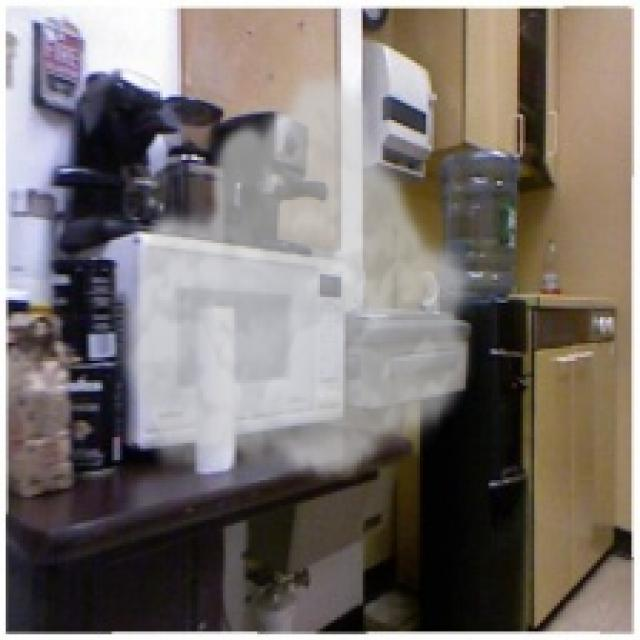smoke: (120, 63, 483, 486)
